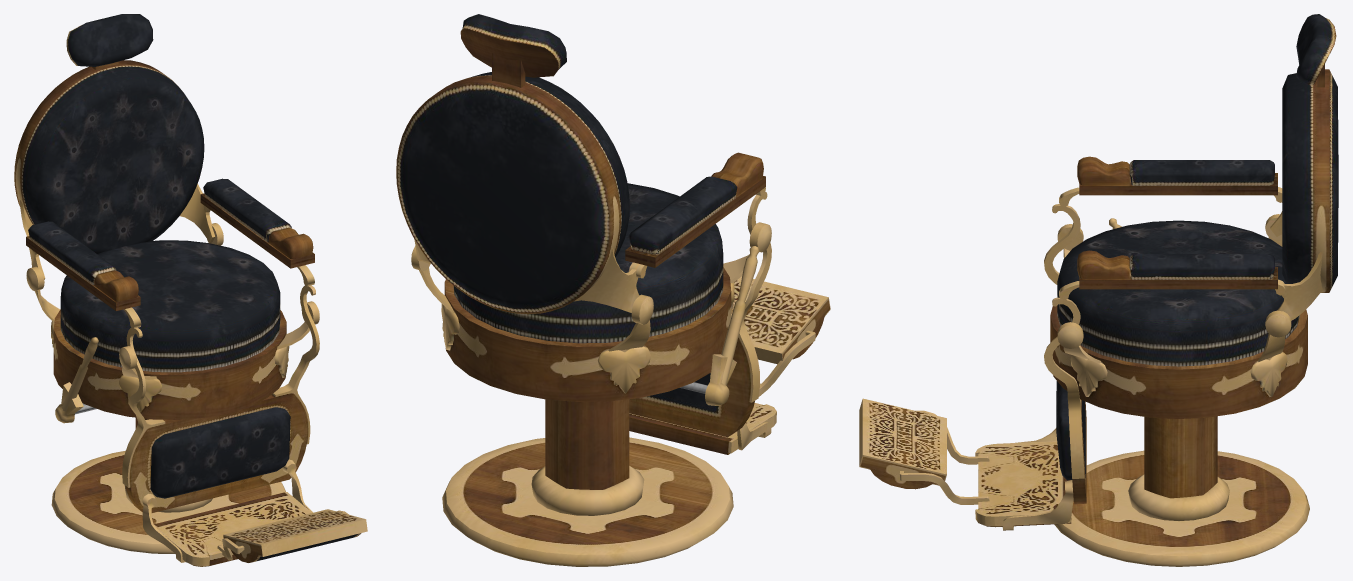
3 renders of one model, left to right at view 1: azimuth 30°, elevation 25°; view 2: azimuth 150°, elevation 25°; view 3: azimuth 270°, elevation 25°, orthographic. The views are drawn at different scales.
Parts seen in each view (by area): view 1: BarberShopChair_01.002; view 2: BarberShopChair_01.002; view 3: BarberShopChair_01.002.
Part boxes in pixels (x1,y1,x2,y2): BarberShopChair_01.002: (14,14,367,566); BarberShopChair_01.002: (396,14,830,566); BarberShopChair_01.002: (859,14,1338,566).
Size of the model in its own units: 0.7565 by 1.49 by 1.33.
1 material, 1 textured.
